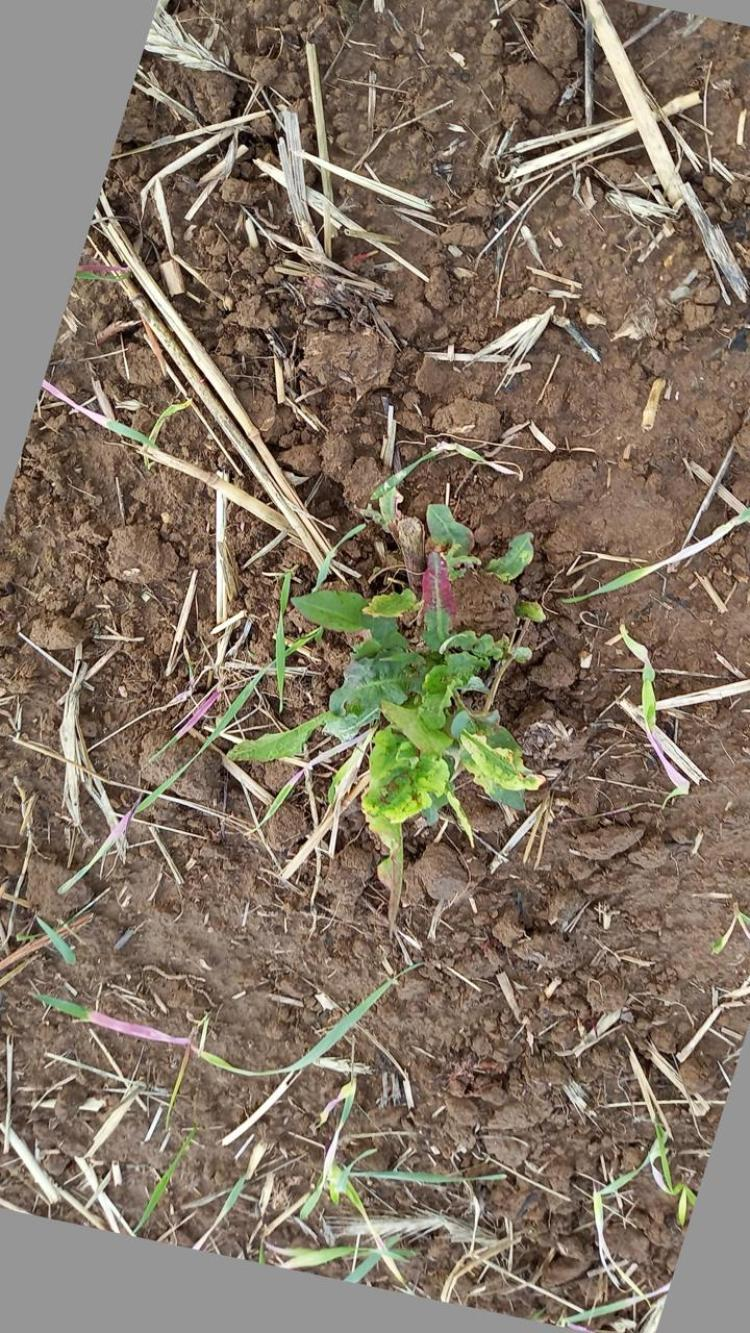zhavel: (231, 496, 548, 872)
